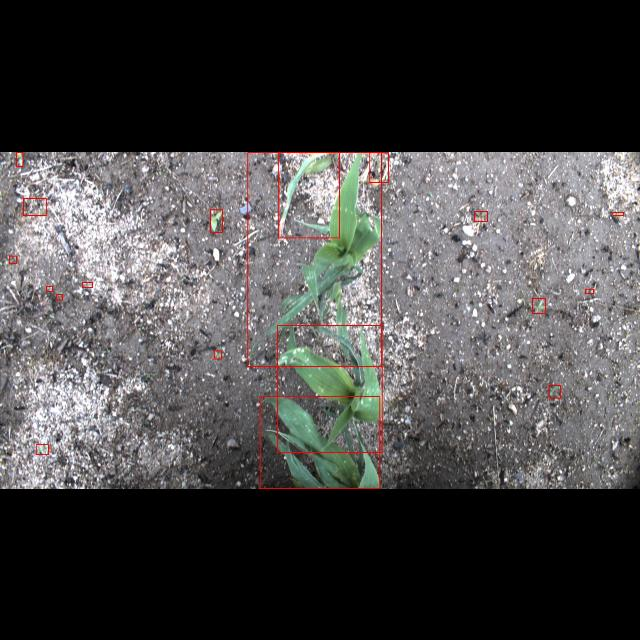crop: (248, 152, 382, 366), (278, 324, 382, 452), (260, 396, 380, 488), (278, 151, 339, 237)
weed: (369, 151, 388, 181), (24, 198, 46, 215), (210, 208, 222, 232), (532, 298, 546, 312), (550, 384, 560, 398), (474, 211, 488, 221), (36, 444, 49, 454), (16, 152, 24, 166), (214, 350, 222, 358), (585, 288, 593, 294), (10, 255, 16, 263), (82, 282, 92, 286), (56, 294, 62, 300), (612, 212, 624, 214), (46, 286, 52, 290)
